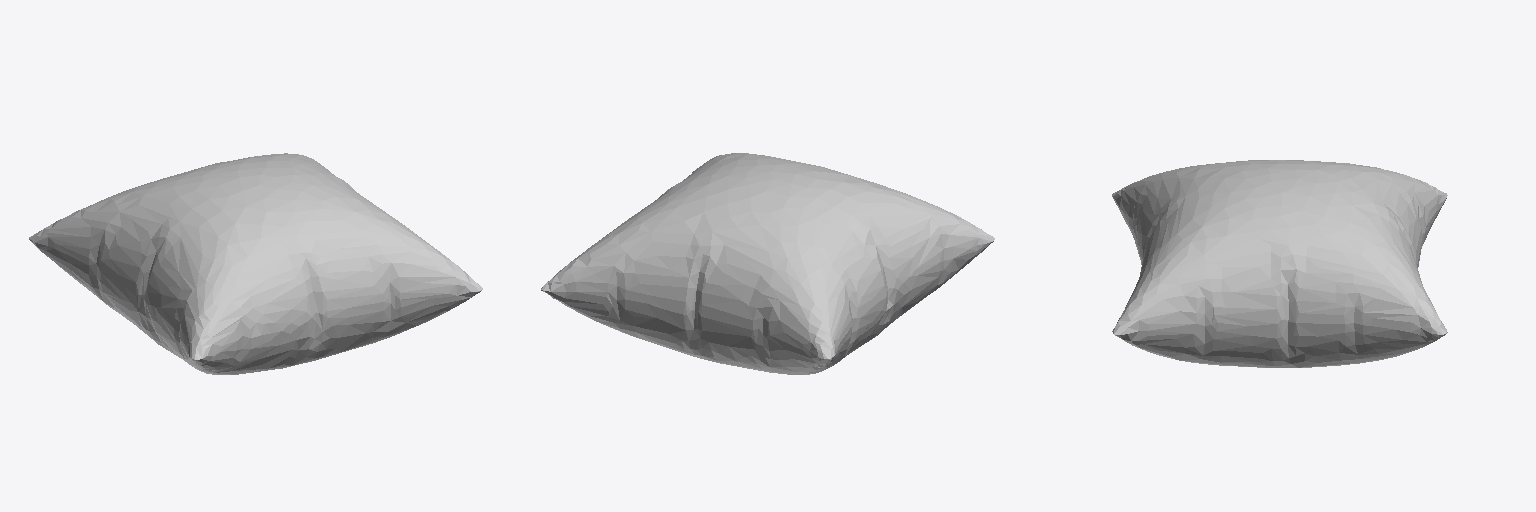
Rendered from Free Pillow.obj.
3 views of the same model, side by side, from view 1: azimuth 30°, elevation 25°; view 2: azimuth 150°, elevation 25°; view 3: azimuth 270°, elevation 25° (orthographic).
Visible parts, largest first — view 1: Плоскость; view 2: Плоскость; view 3: Плоскость.
Part boxes in pixels (x1,y1,x2,y2): Плоскость: (29, 153, 482, 374); Плоскость: (541, 153, 994, 374); Плоскость: (1112, 160, 1447, 367).
Size of the model in its own units: 1.75 by 0.8502 by 1.75.